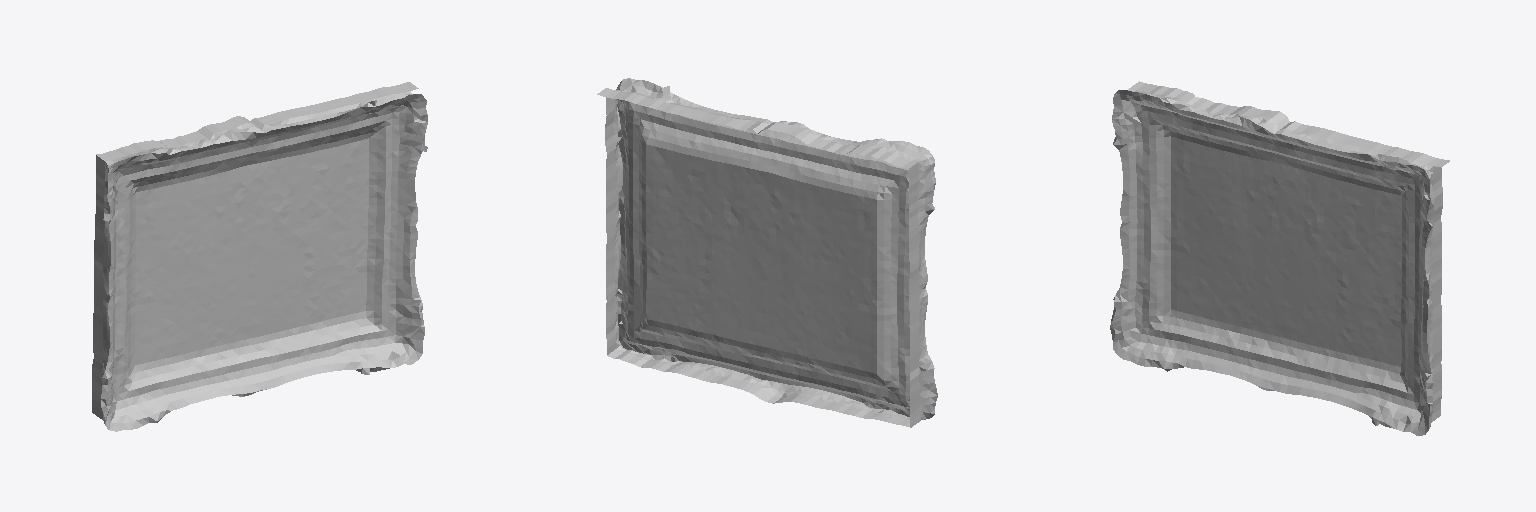
File: YeatsFlowerGirl.obj
3 views of the same model, side by side, from view 1: azimuth 30°, elevation 25°; view 2: azimuth 150°, elevation 25°; view 3: azimuth 330°, elevation 25° (orthographic).
Parts seen in each view (by area): view 1: YeatsFlowerGirl_LP_YeatsFlowerGirl_Mesh2; view 2: YeatsFlowerGirl_LP_YeatsFlowerGirl_Mesh2; view 3: YeatsFlowerGirl_LP_YeatsFlowerGirl_Mesh2.
Part boxes in pixels (x1,y1,x2,y2): YeatsFlowerGirl_LP_YeatsFlowerGirl_Mesh2: (92,82,427,431); YeatsFlowerGirl_LP_YeatsFlowerGirl_Mesh2: (597,78,937,427); YeatsFlowerGirl_LP_YeatsFlowerGirl_Mesh2: (1110,81,1449,435).
Size of the model in its own units: 16.66 by 13.61 by 1.94.